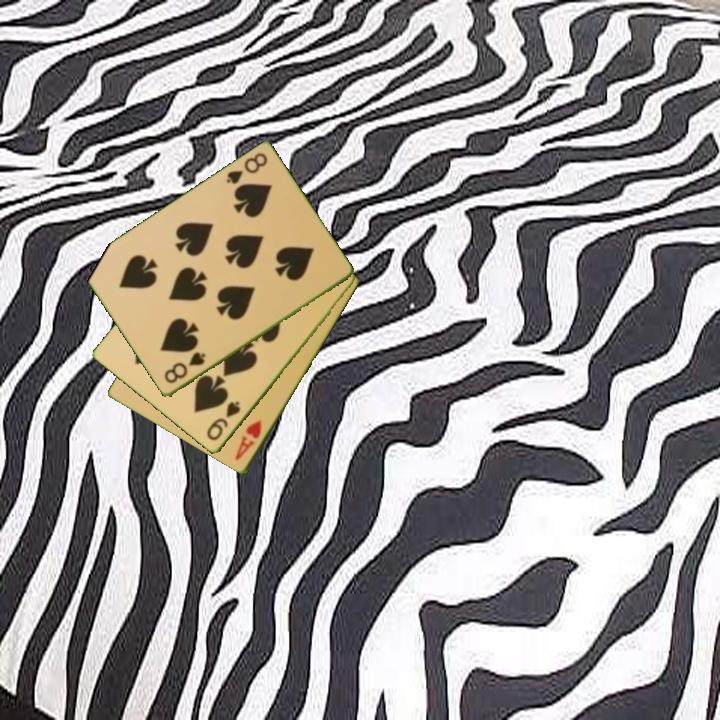8s: (222, 149, 270, 188), (161, 349, 209, 387)
9s: (203, 398, 244, 444)
Ah: (231, 417, 265, 464)
